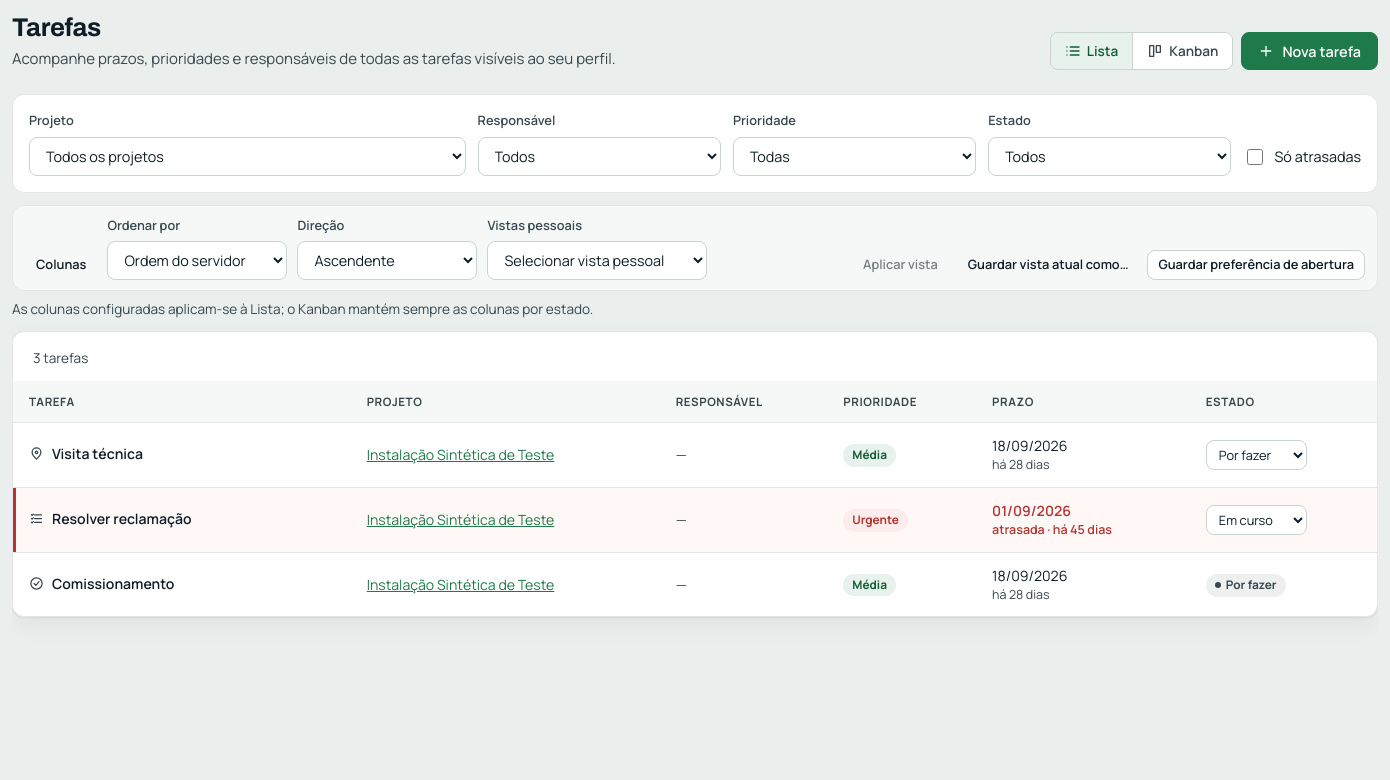
Test: Tasks › mostra o erro do servidor quando a transição é recusada
Select "Bloqueada" in the dropdown named "Estado da tarefa Visita técnica" at (1256, 455), box x1=1206 y1=440 x2=1307 y2=470
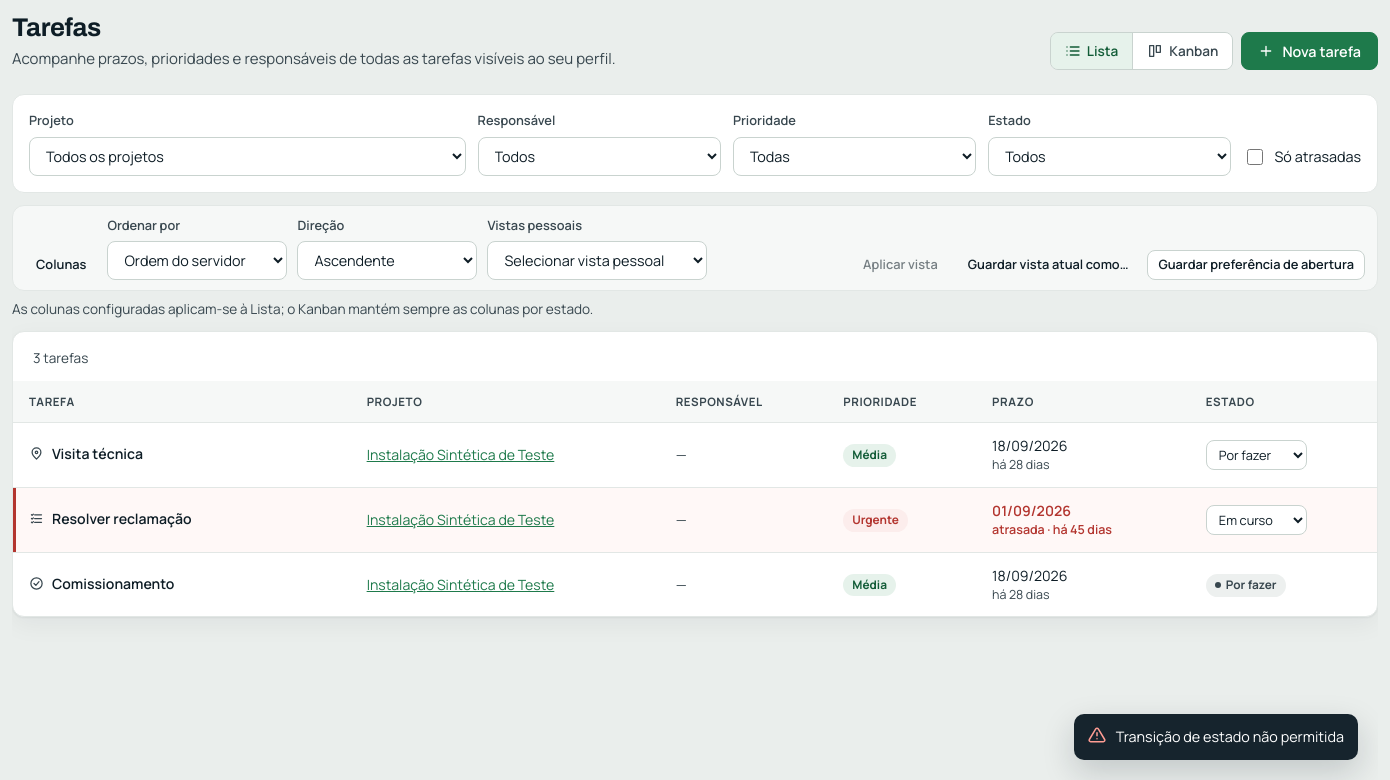
Check: the text "Transição de estado não permitida" is shown, box x1=1116 y1=726 x2=1344 y2=748
